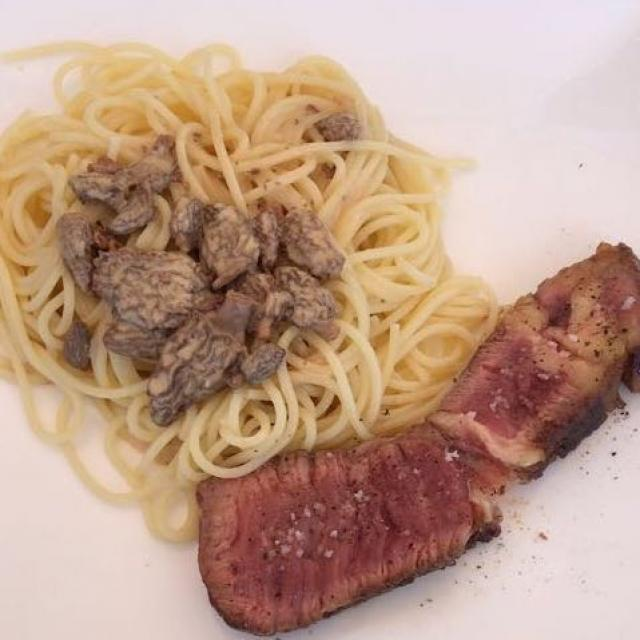beef: (219, 250, 626, 632)
pasta: (13, 38, 501, 565)
sauce: (54, 146, 379, 438)
